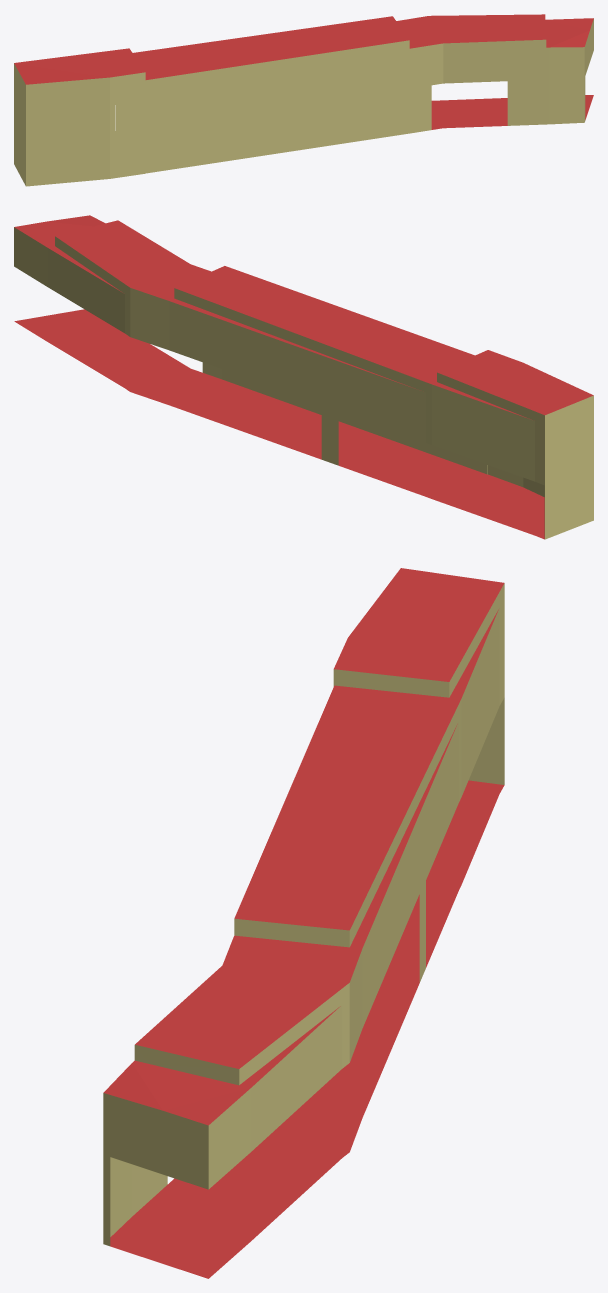
The picture shows the model from 3 angles, top to bottom: view 1: azimuth 30°, elevation 25°; view 2: azimuth 150°, elevation 25°; view 3: azimuth 270°, elevation 25°; orthographic projection. The views are drawn at different scales.
Parts seen in each view (by area): view 1: group_13, group_7, group_10, group_12, group_4, group_9, group_6, group_11, group_3, group_5; view 2: group_10, group_13, group_12, group_11, group_7, group_9, group_14, group_6, group_4, group_5, group_8, group_3; view 3: group_12, group_4, group_9, group_10, group_11, group_6, group_5, group_13, group_3, group_7, group_8, group_14.
Boxes of the visible parts, left/top/right/bottom form: group_13: left=115, top=40, right=409, bottom=177; group_7: left=14, top=63, right=145, bottom=186; group_10: left=382, top=39, right=546, bottom=137; group_12: left=133, top=16, right=409, bottom=79; group_4: left=528, top=19, right=593, bottom=124; group_9: left=396, top=14, right=546, bottom=48; group_6: left=14, top=48, right=145, bottom=84; group_11: left=431, top=100, right=507, bottom=129; group_3: left=545, top=18, right=593, bottom=47; group_5: left=438, top=95, right=593, bottom=119; group_10: left=55, top=236, right=425, bottom=465; group_13: left=174, top=288, right=534, bottom=481; group_12: left=175, top=266, right=531, bottom=419; group_11: left=125, top=337, right=425, bottom=496; group_7: left=437, top=372, right=593, bottom=539; group_9: left=55, top=220, right=415, bottom=388; group_14: left=254, top=391, right=529, bottom=533; group_6: left=437, top=350, right=593, bottom=415; group_4: left=14, top=227, right=124, bottom=333; group_5: left=14, top=309, right=129, bottom=387; group_8: left=437, top=474, right=544, bottom=539; group_3: left=14, top=215, right=122, bottom=292; group_12: left=234, top=609, right=498, bottom=930; group_4: left=103, top=1005, right=342, bottom=1246; group_9: left=135, top=724, right=457, bottom=1068; group_10: left=134, top=721, right=458, bottom=1200; group_11: left=150, top=891, right=458, bottom=1200; group_6: left=334, top=568, right=504, bottom=681; group_5: left=110, top=1158, right=341, bottom=1278; group_13: left=234, top=608, right=499, bottom=947; group_3: left=103, top=1006, right=340, bottom=1125; group_7: left=333, top=583, right=504, bottom=784; group_8: left=426, top=780, right=504, bottom=884; group_14: left=398, top=796, right=498, bottom=943.
Size of the model in its own units: 191 by 63.86 by 35.74.
